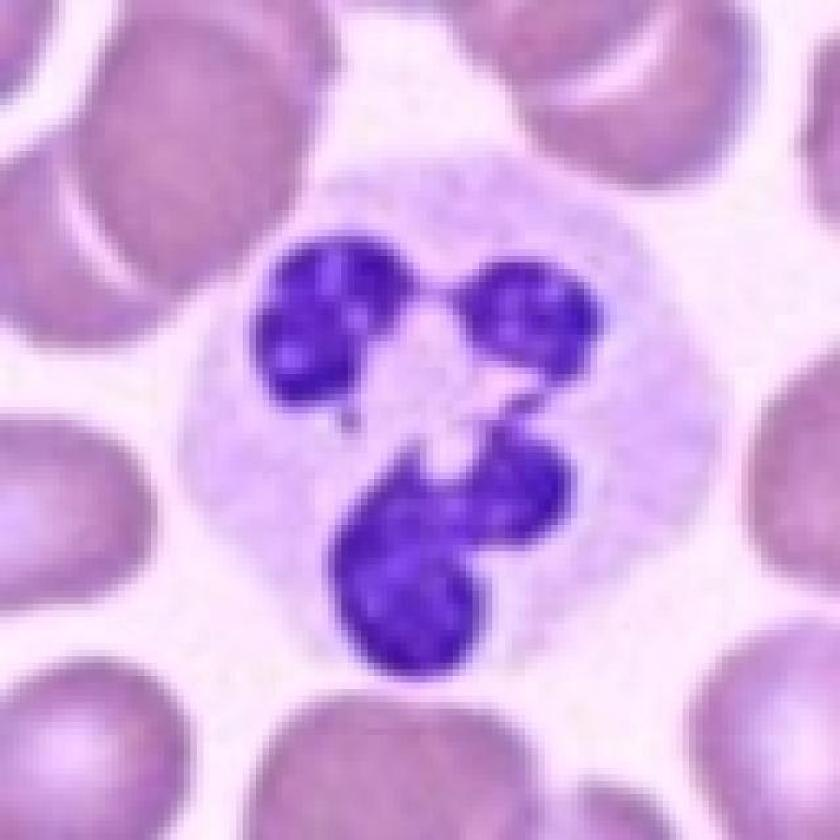neutrophil: (115, 148, 750, 710)
